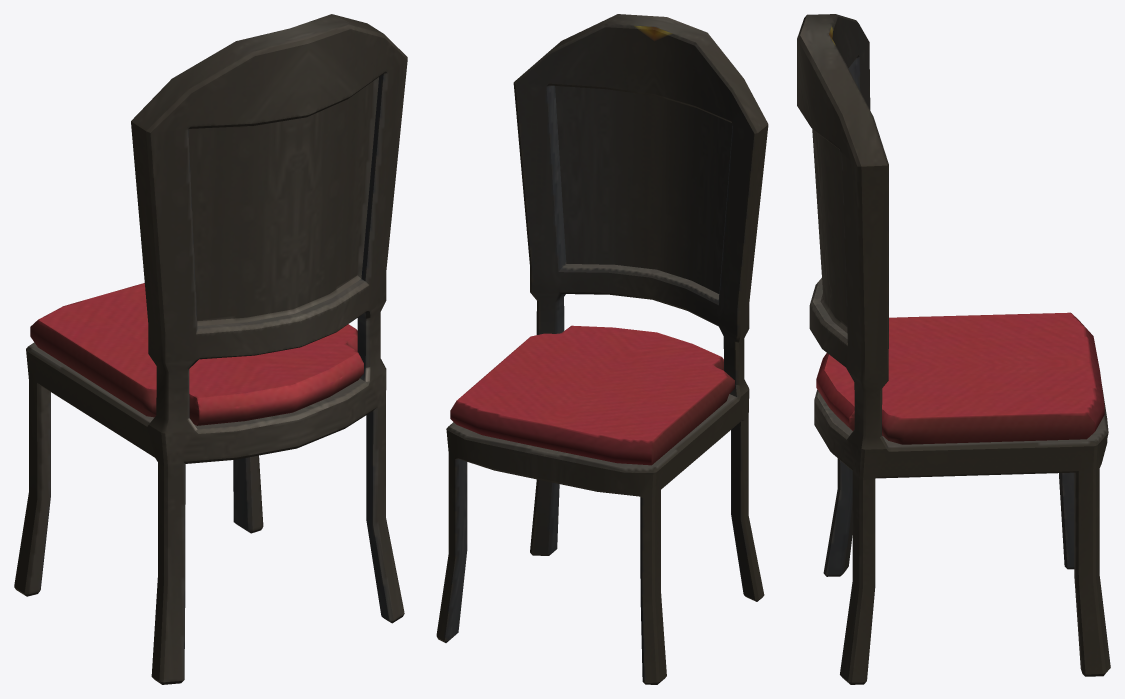
File: Chair.FBX
3 renders of one model, left to right at view 1: azimuth 30°, elevation 25°; view 2: azimuth 150°, elevation 25°; view 3: azimuth 270°, elevation 25°, orthographic. The views are drawn at different scales.
Parts seen in each view (by area): view 1: Chair; view 2: Chair; view 3: Chair.
Part boxes in pixels (x1,y1,x2,y2): Chair: (14,14,407,684); Chair: (436,14,768,684); Chair: (797,14,1110,684).
Size of the model in its own units: 106110 by 231063 by 110752.
